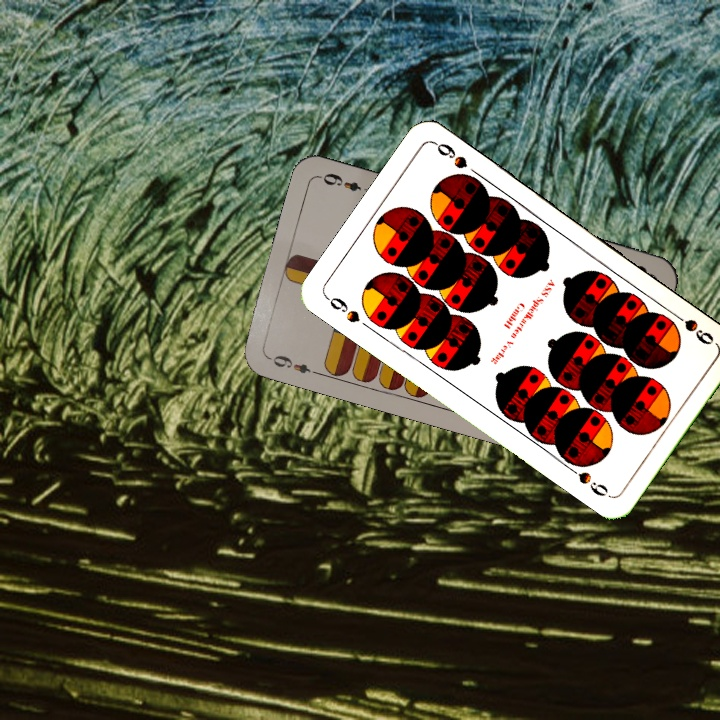E9: (264, 351, 322, 378)
S9: (666, 307, 717, 348), (322, 292, 363, 326)
